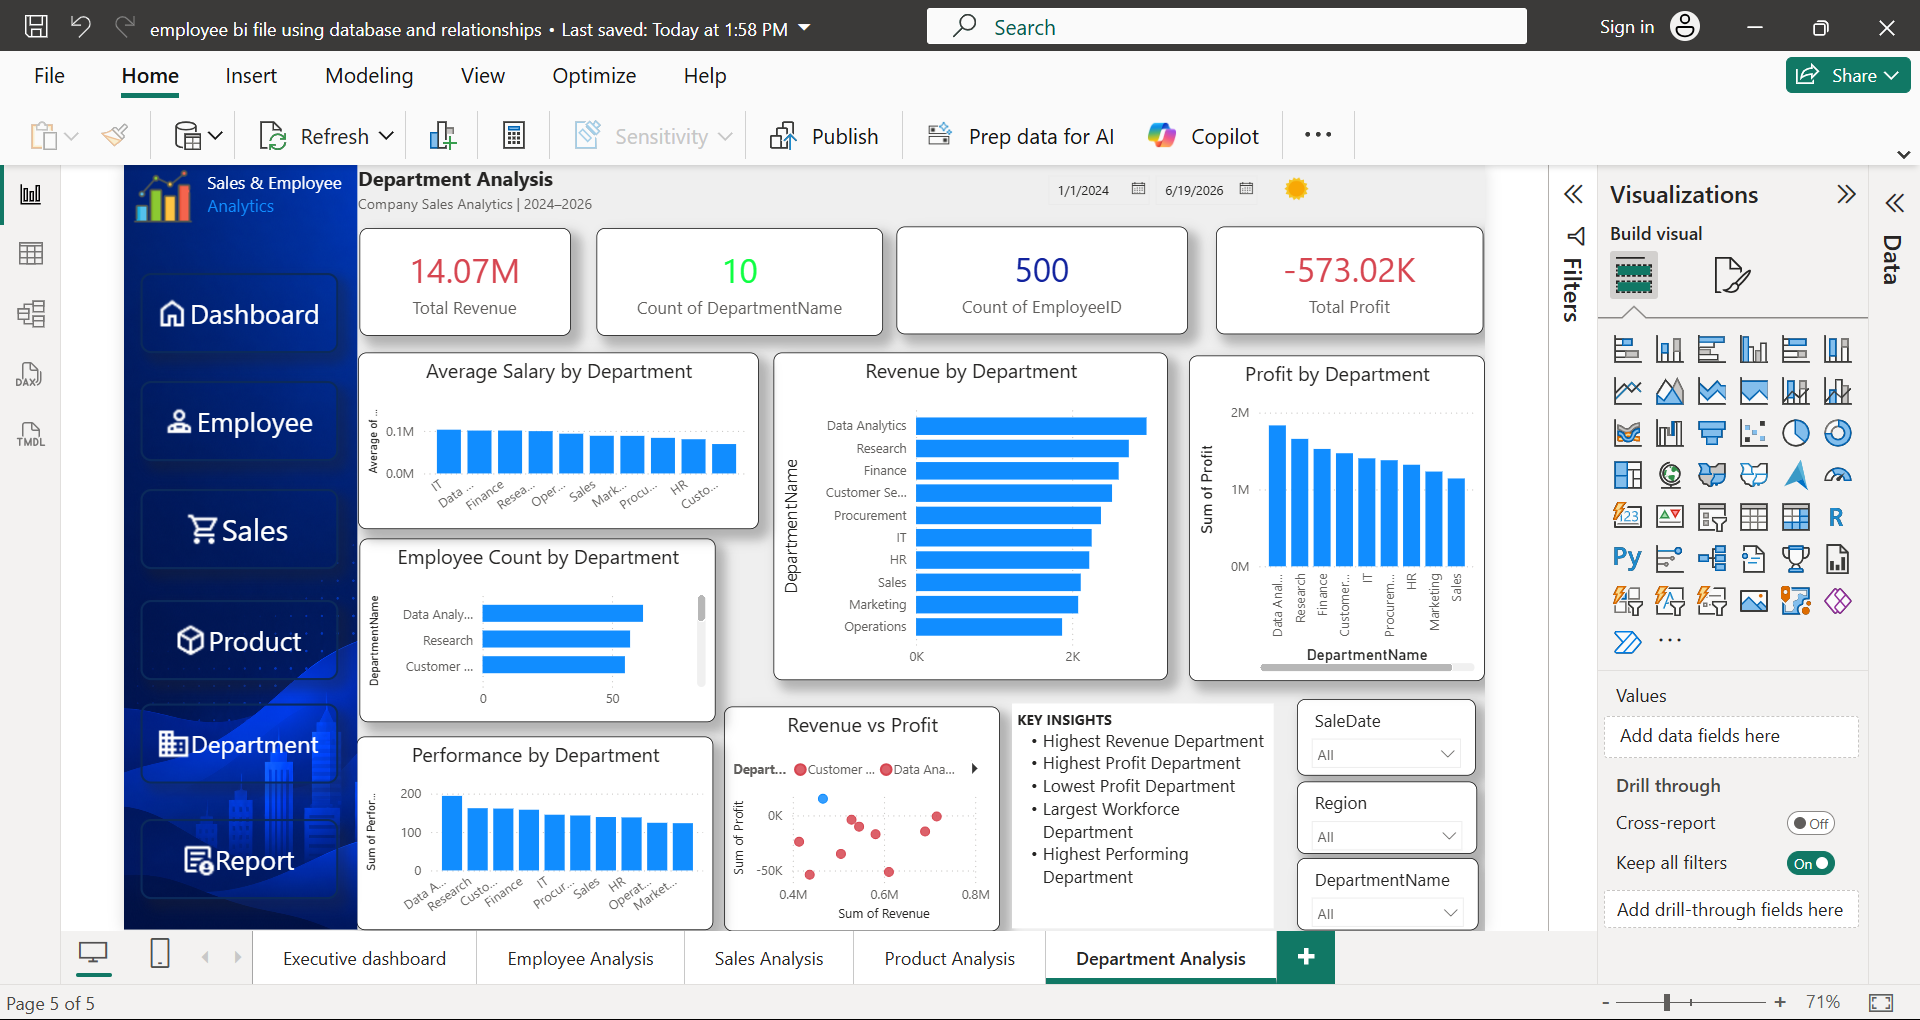

The dashboard page shown, as its layout file describes it:
{"tool":"powerbi","page":{"name":"Department Analysis","canvas":[1280,720],"ordinal":4},"visuals":[{"type":"card","fields":{"Values":["Count(company_powerbi departments.DepartmentName)"]},"box":[443.7,59.1,269.5,101.5],"z":1000},{"type":"card","fields":{"Values":["Sum(company_powerbi sales.Revenue)"]},"box":[221.1,59.1,198.4,101.5],"z":2000},{"type":"card","fields":{"Values":["CountNonNull(company_powerbi employees.EmployeeID)"]},"box":[726.8,57.5,274.1,101.5],"z":3000},{"type":"card","fields":{"Values":["Sum(company_powerbi sales.Profit)"]},"box":[1026.6,57.5,251.4,101.5],"z":4000},{"type":"clusteredBarChart","title":"Revenue by Department","fields":{"Y":["Sum(company_powerbi sales.Quantity)"],"Category":["company_powerbi departments.DepartmentName"]},"box":[610.2,175.6,370.4,307.9],"z":5000},{"type":"scatterChart","title":"Revenue vs Profit","fields":{"X":["Sum(company_powerbi sales.Revenue)"],"Y":["Sum(company_powerbi sales.Profit)"],"Series":["company_powerbi departments.DepartmentName"]},"box":[564,508.5,259.4,211.5],"z":6000},{"type":"clusteredBarChart","title":"Employee Count by Department","fields":{"Category":["company_powerbi departments.DepartmentName"],"Y":["CountNonNull(company_powerbi employees.EmployeeID)"]},"box":[221.1,351.3,334.6,172.6],"z":7000},{"type":"clusteredColumnChart","title":"Performance by Department","fields":{"Category":["company_powerbi departments.DepartmentName"],"Y":["Sum(company_powerbi employees.PerformanceScore)"]},"box":[218.8,537.7,335.6,181.9],"z":8000},{"type":"slicer","fields":{"Values":["company_powerbi sales.SaleDate"]},"box":[1102.6,501.9,167.8,71.9],"z":9000},{"type":"slicer","fields":{"Values":["company_powerbi customers.Region"]},"box":[1102.6,579.5,169.2,67.7],"z":10000},{"type":"slicer","fields":{"Values":["company_powerbi departments.DepartmentName"]},"box":[1102.6,651.4,170.6,67.7],"z":11000},{"type":"image","box":[0,0,219.5,719],"z":12000},{"type":"shape","title":"Department Analysis","box":[219.6,0,1059.9,57.5],"z":13000},{"type":"slicer","fields":{"Values":["company_powerbi sales.SaleDate"]},"box":[855.5,0,299.8,42.4],"z":14000},{"type":"image","box":[1081.6,11.1,41.4,22.3],"z":15000},{"type":"image","box":[0,0,73.2,58.9],"z":16000},{"type":"textbox","box":[73.2,0,146.3,58.9],"z":17000},{"type":"actionButton","box":[15.6,101.6,186,75],"z":18000},{"type":"actionButton","box":[15.6,203.2,186,75],"z":19000},{"type":"actionButton","box":[15.6,304.8,186,75],"z":20000},{"type":"actionButton","box":[15.6,409.5,186,75],"z":21000},{"type":"actionButton","box":[15.6,506.4,186,75],"z":22000},{"type":"actionButton","box":[15.6,614.3,186,75],"z":23000},{"type":"textbox","box":[835.3,506.5,245.7,211.7],"z":24000},{"type":"columnChart","title":"Average Salary by Department","fields":{"Category":["company_powerbi departments.DepartmentName"],"Y":["Avg(company_powerbi employees.Salary)"]},"box":[220.4,176.6,376.7,165.7],"z":25000},{"type":"clusteredColumnChart","title":"Profit by Department","fields":{"Category":["company_powerbi departments.DepartmentName"],"Y":["Sum(company_powerbi sales.Revenue)"]},"box":[1000.9,178.7,277.8,306.1],"z":26000}]}

Visuals, with their boxes on the page's 1280x720 design canvas (x1, y1, x2, y2). These are canvas units, not pixel positions in the 1920x1020 screenshot, which may show the page scaled, cropped or inside an application window:
card - Count(company_powerbi departments.DepartmentName): BBox(444, 59, 713, 161)
card - Sum(company_powerbi sales.Revenue): BBox(221, 59, 420, 161)
card - CountNonNull(company_powerbi employees.EmployeeID): BBox(727, 58, 1001, 159)
card - Sum(company_powerbi sales.Profit): BBox(1027, 58, 1278, 159)
"Revenue by Department" clusteredBarChart: BBox(610, 176, 981, 484)
"Revenue vs Profit" scatterChart: BBox(564, 508, 823, 720)
"Employee Count by Department" clusteredBarChart: BBox(221, 351, 556, 524)
"Performance by Department" clusteredColumnChart: BBox(219, 538, 554, 720)
slicer - company_powerbi sales.SaleDate: BBox(1103, 502, 1270, 574)
slicer - company_powerbi customers.Region: BBox(1103, 580, 1272, 647)
slicer - company_powerbi departments.DepartmentName: BBox(1103, 651, 1273, 719)
image: BBox(0, 0, 220, 719)
"Department Analysis" shape: BBox(220, 0, 1280, 58)
slicer - company_powerbi sales.SaleDate: BBox(856, 0, 1155, 42)
image: BBox(1082, 11, 1123, 33)
image: BBox(0, 0, 73, 59)
textbox: BBox(73, 0, 220, 59)
actionButton: BBox(16, 102, 202, 177)
actionButton: BBox(16, 203, 202, 278)
actionButton: BBox(16, 305, 202, 380)
actionButton: BBox(16, 410, 202, 484)
actionButton: BBox(16, 506, 202, 581)
actionButton: BBox(16, 614, 202, 689)
textbox: BBox(835, 506, 1081, 718)
"Average Salary by Department" columnChart: BBox(220, 177, 597, 342)
"Profit by Department" clusteredColumnChart: BBox(1001, 179, 1279, 485)
